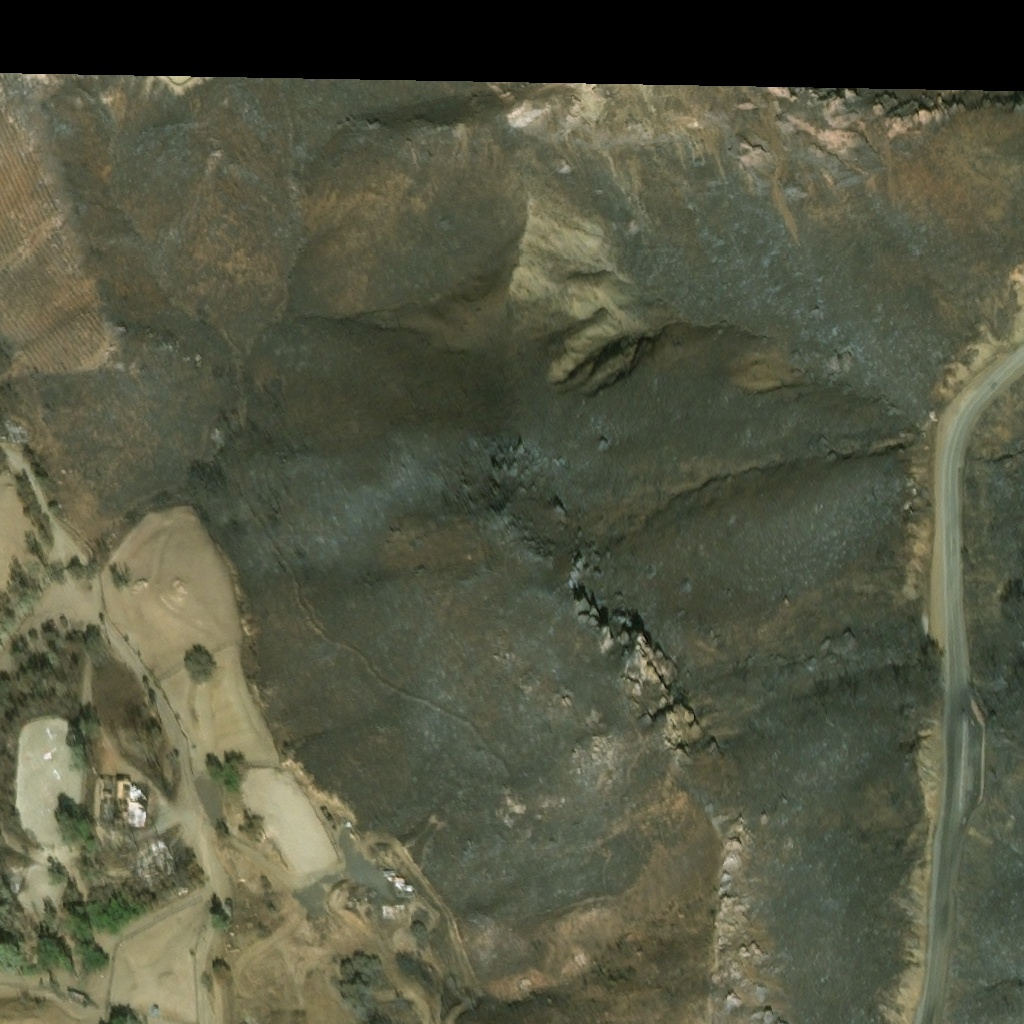3 destroyed: (95, 780, 147, 828), (133, 846, 165, 868), (376, 878, 399, 889), (166, 839, 182, 854), (64, 985, 82, 997), (221, 894, 231, 914), (8, 427, 27, 436), (12, 876, 21, 893), (8, 414, 20, 425), (392, 878, 409, 884), (385, 871, 401, 877), (379, 864, 392, 870), (150, 1002, 156, 1010), (0, 433, 7, 438), (4, 646, 9, 651)
